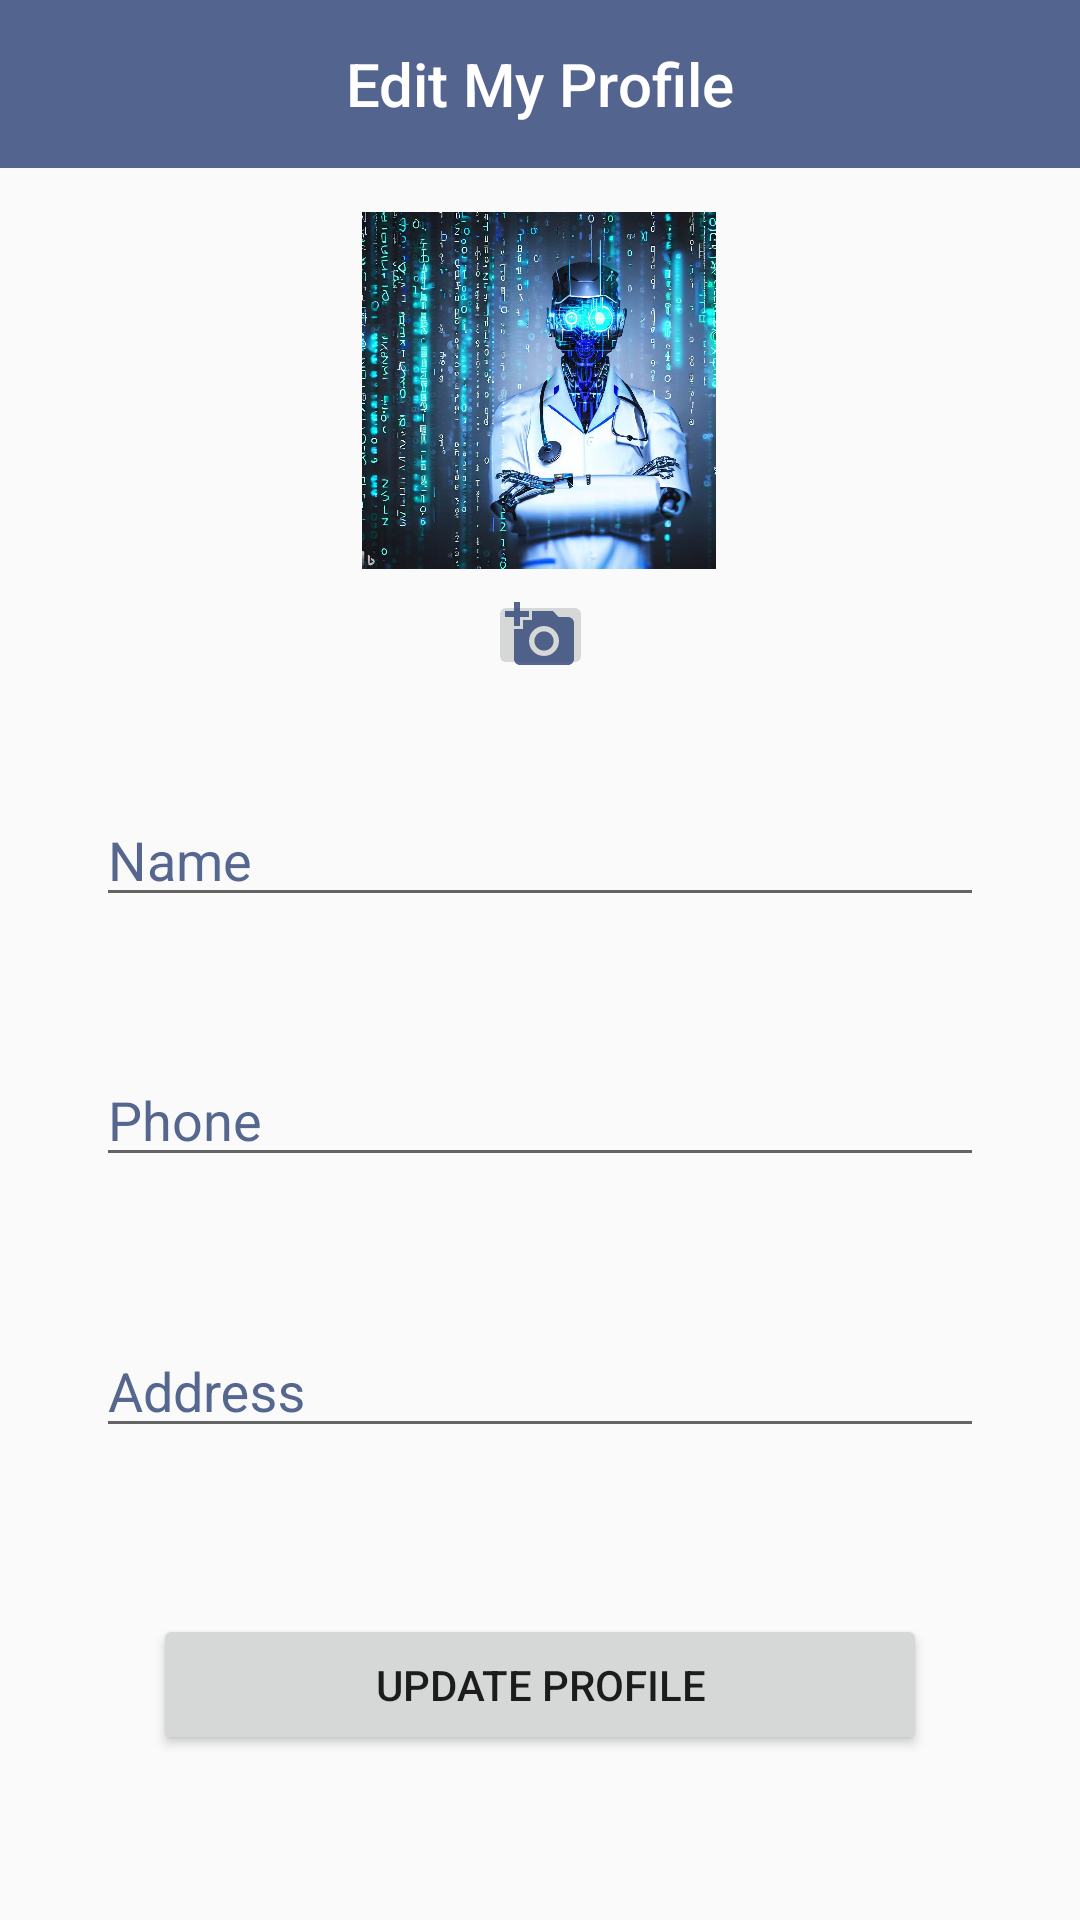

Icon click points for this 1080*1920 phone screenshot, format (x=x, y=y):
add photo: (x=540, y=633)
